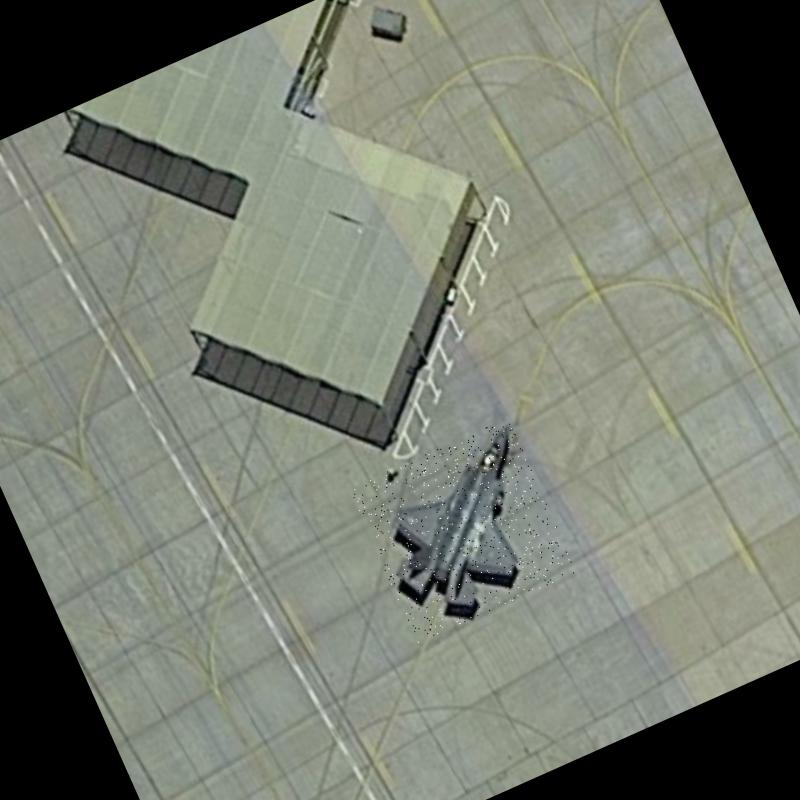A15: (348, 417, 578, 643)
